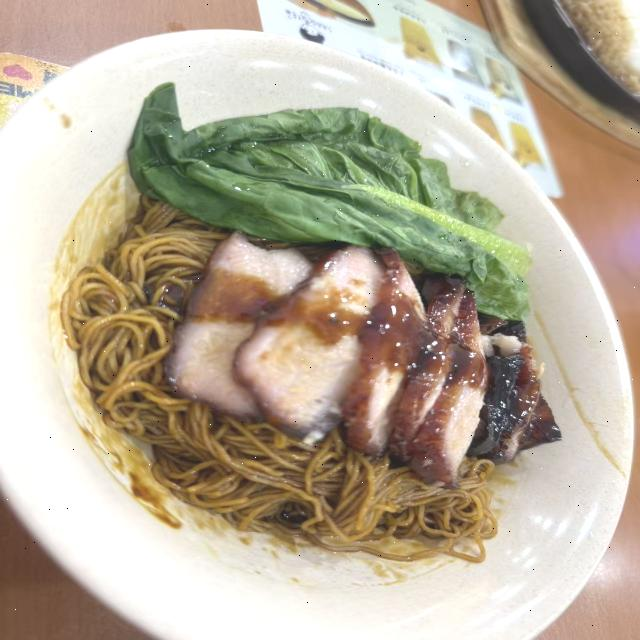Wantan Mee: (48, 47, 600, 591)
